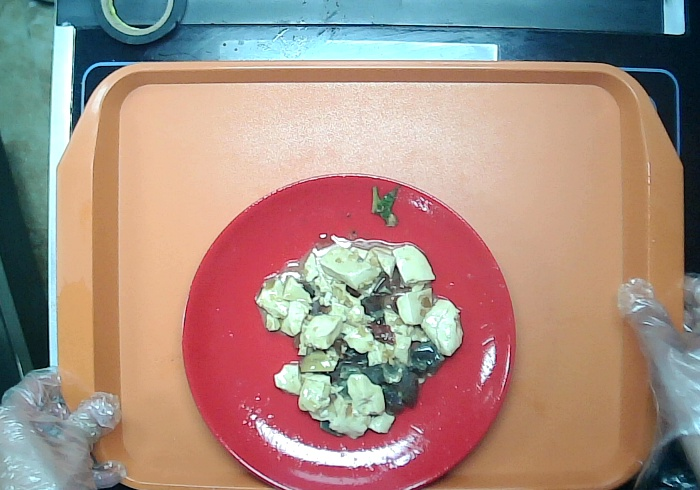HZYJPL-Hong_Se_Yuan_Pan: (177, 173, 521, 490)
